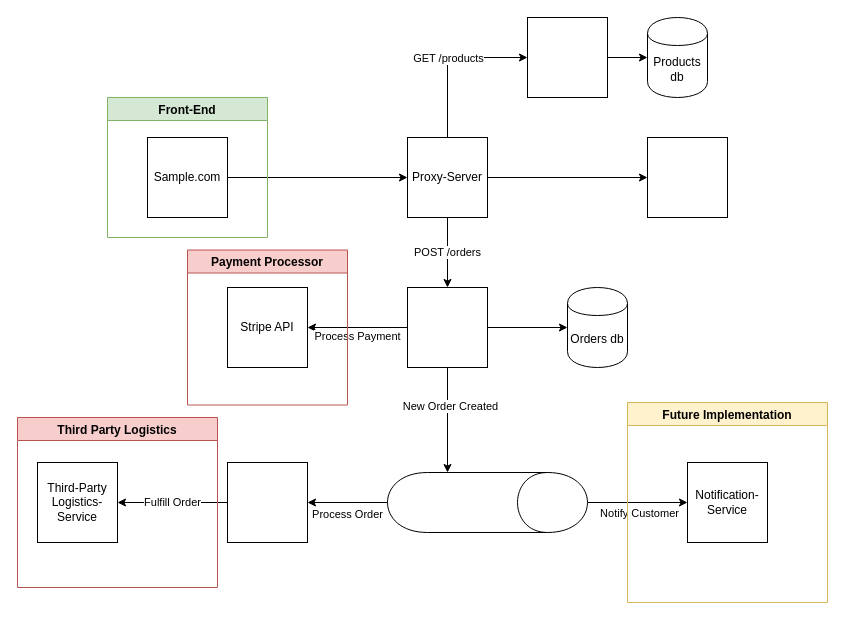
The diagram is 845 pixels wide and 620 high, and some of its shapes have lost their labels. The box of each missing label's shape, as (x1, y1, x2, y2) in pixels:
Naming-Server: (646, 136, 728, 218)
Order-Processing-Service: (226, 462, 308, 542)
Order-Service: (406, 286, 488, 368)
ORDERS EXCHANGE: (386, 472, 588, 532)
Product-Service: (526, 16, 608, 98)
